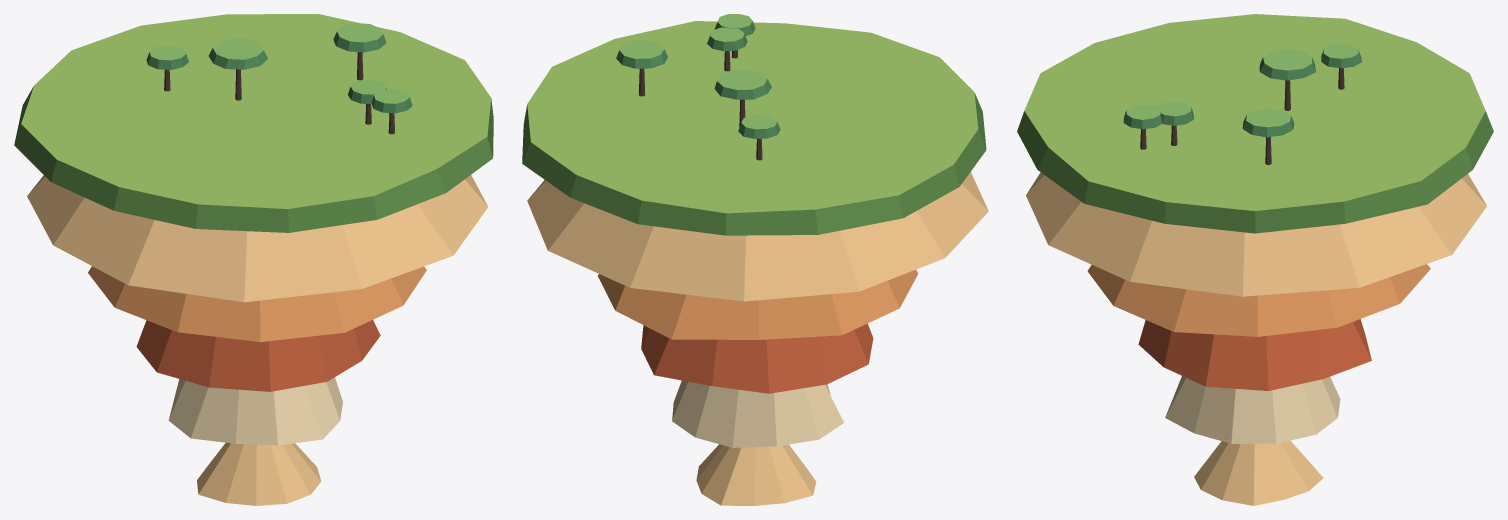
The model's file is float_island.glb.
3 views of the same model, side by side, from view 1: azimuth 30°, elevation 25°; view 2: azimuth 150°, elevation 25°; view 3: azimuth 270°, elevation 25° (orthographic).
Visible parts, largest first — view 1: float_island; view 2: float_island; view 3: float_island.
Part boxes in pixels (x1,y1,x2,y2): float_island: (14, 14, 493, 505); float_island: (522, 14, 988, 505); float_island: (1017, 14, 1493, 505).
Size of the model in its own units: 52.03 by 50.08 by 52.
